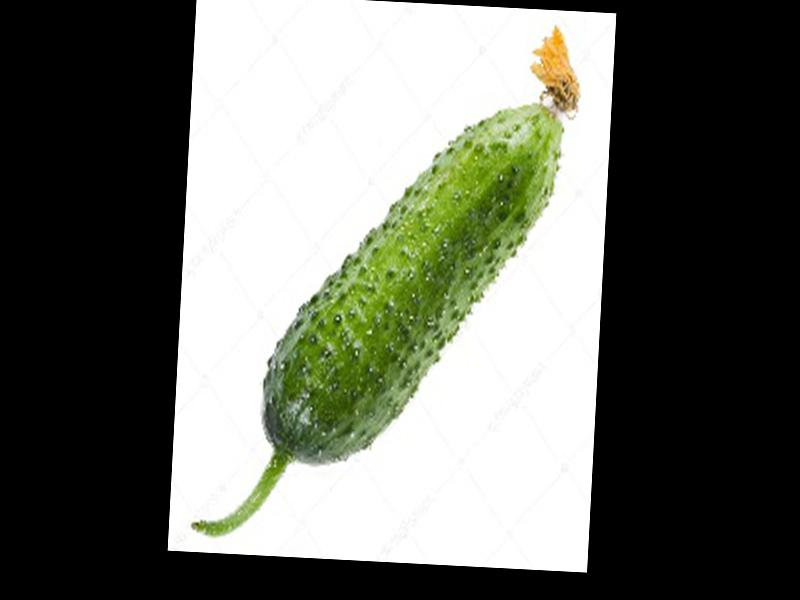Cucumber: (194, 7, 583, 553)
